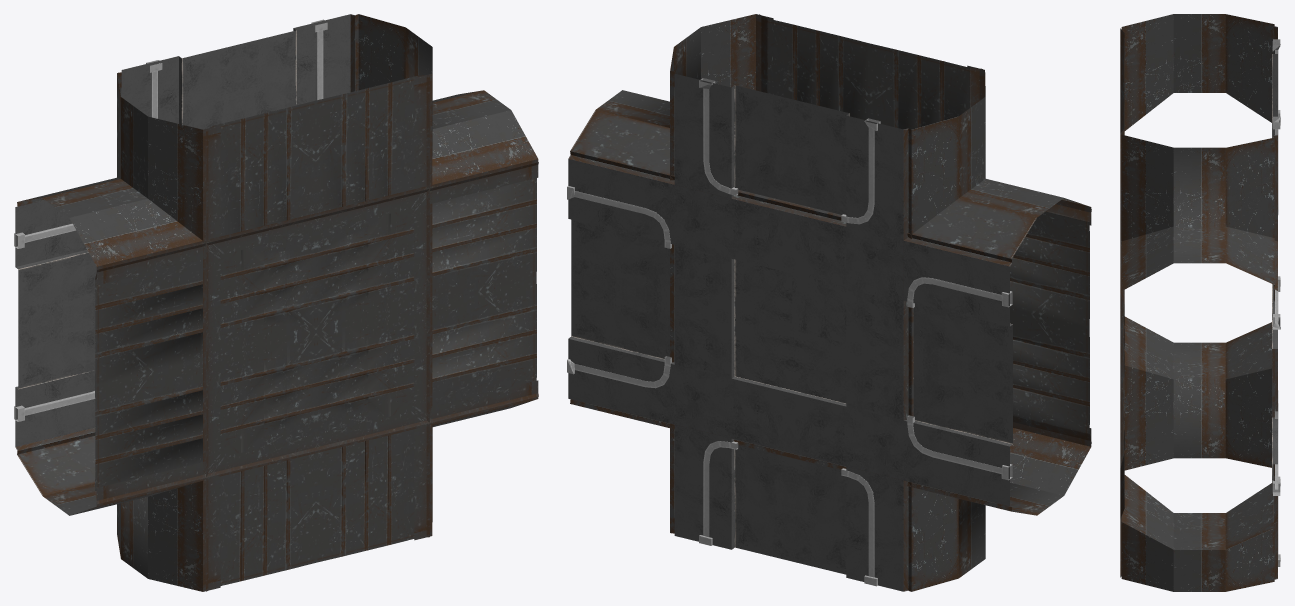
The model's file is Coridor_small_cross_1.FBX.
3 views of the same model, side by side, from view 1: azimuth 30°, elevation 25°; view 2: azimuth 150°, elevation 25°; view 3: azimuth 270°, elevation 25° (orthographic). The views are drawn at different scales.
Parts seen in each view (by area): view 1: Coridor_small_009; view 2: Coridor_small_009; view 3: Coridor_small_009.
Part boxes in pixels (x1,y1,x2,y2): Coridor_small_009: (14, 14, 538, 591); Coridor_small_009: (567, 14, 1091, 591); Coridor_small_009: (1120, 14, 1280, 591).
Bounding box in the file's own units: 9.58 × 9.58 × 3.13.
1 material, 1 textured.
